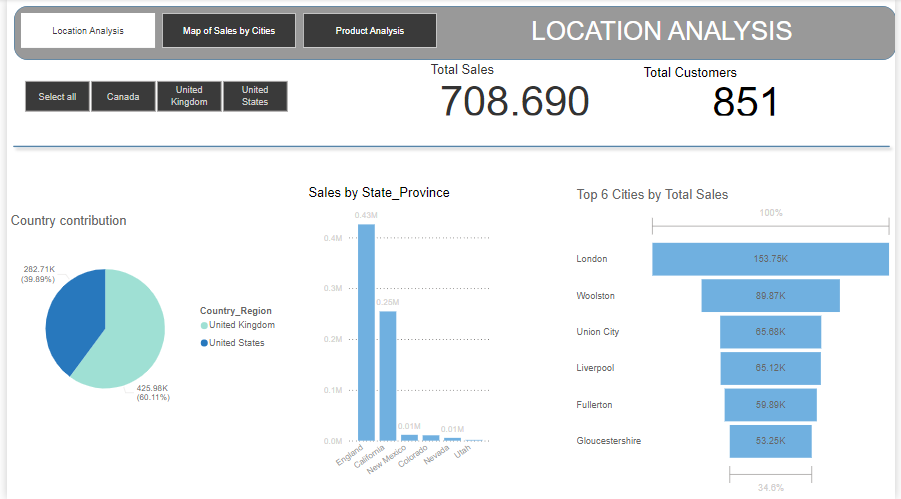

Layout of this report page (visuals, bound fields, positions):
{"tool":"powerbi","page":{"name":"Location Analysis","canvas":[1280,720],"ordinal":0},"visuals":[{"type":"shape","box":[10.1,10.1,1270.1,77.8],"z":0},{"type":"clusteredColumnChart","title":"Sales by State_Province","fields":{"Category":["address.State_Province"],"Y":["Sum(SalesOrderDetail.Line_Total)"]},"box":[429.1,267.8,273.6,452.2],"z":1000},{"type":"funnel","title":"Top 6 Cities by Total Sales","fields":{"Category":["address.City"],"Y":["Sum(SalesOrderDetail.Line_Total)"]},"box":[815,270.7,465.1,449.3],"z":2000},{"type":"card","title":"Total Sales","fields":{"Values":["Sum(SalesOrderDetail.Line_Total)"]},"box":[604.8,90.7,253.4,82.1],"z":2001},{"type":"slicer","fields":{"Values":["address.Country_Region"]},"box":[0,95,427.7,73.4],"z":2002},{"type":"pieChart","title":"Country contribution","fields":{"Category":["address.Country_Region"],"Y":["Sum(SalesOrderDetail.Line_Total)"]},"box":[0,308.2,401.8,312.5],"z":2003},{"type":"card","title":"Total Customers","fields":{"Values":["CountNonNull(Customer.Customer_ID)"]},"box":[911.5,95,308.2,77.8],"z":2004},{"type":"shape","box":[0,172.8,1280.2,79],"z":2005},{"type":"textbox","box":[666.7,20.2,553,53.3],"z":2006},{"type":"pageNavigator","box":[20.2,20.2,600.5,50.4],"z":2007}]}

Visuals, with their boxes in screenshot pixels (x1, y1, x2, y2), scaled from the page's 1280x720 canvas onto the 901x499 screenshot:
shape: locate(7, 7, 900, 61)
"Sales by State_Province" clusteredColumnChart: locate(302, 186, 495, 498)
"Top 6 Cities by Total Sales" funnel: locate(574, 188, 900, 498)
"Total Sales" card: locate(426, 63, 604, 120)
slicer - address.Country_Region: locate(0, 66, 301, 117)
"Country contribution" pieChart: locate(0, 214, 283, 430)
"Total Customers" card: locate(642, 66, 859, 120)
shape: locate(0, 120, 900, 175)
textbox: locate(469, 14, 859, 51)
pageNavigator: locate(14, 14, 437, 49)
